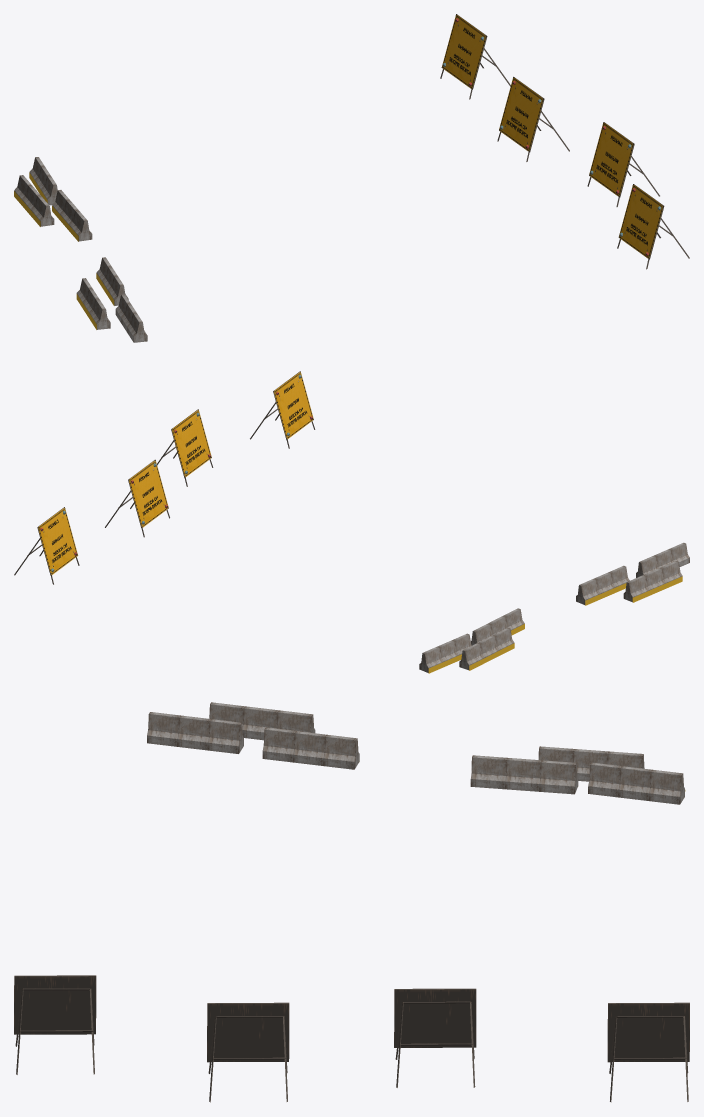
The model's file is sfw_roadblock3ld.obj.
The picture shows the model from 3 angles, top to bottom: view 1: azimuth 30°, elevation 25°; view 2: azimuth 150°, elevation 25°; view 3: azimuth 270°, elevation 25°; orthographic projection. The views are drawn at different scales.
Visible parts, largest first — view 1: sfw_roadblock3ld; view 2: sfw_roadblock3ld; view 3: sfw_roadblock3ld.
Boxes of the visible parts, <box> form: sfw_roadblock3ld: <box>14,14,689,342</box>; sfw_roadblock3ld: <box>14,371,689,673</box>; sfw_roadblock3ld: <box>14,702,689,1102</box>.
Size of the model in its own units: 39.89 by 4.09 by 30.54.
4 materials, 4 textured.
